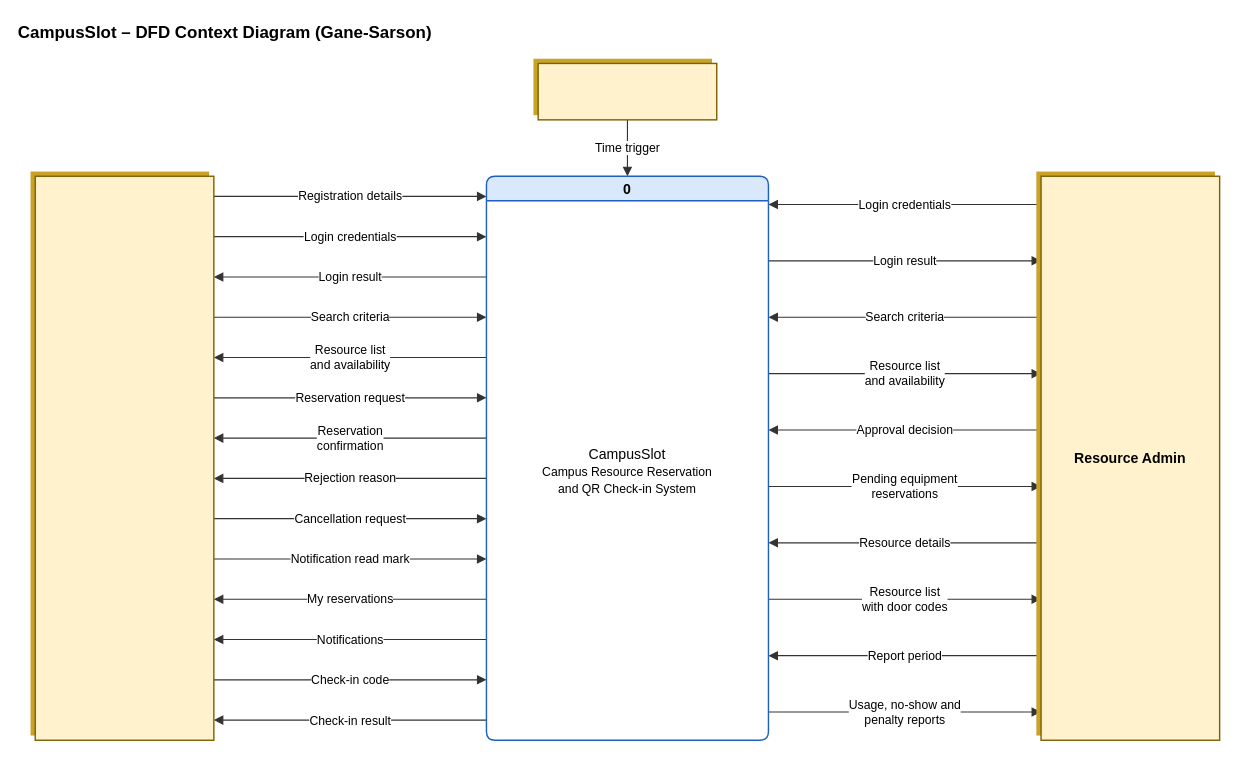
The diagram is 1236 pixels wide and 757 high, and some of its shapes have lost their labels. The box of each missing label's shape, as (x1, y1, x2, y2) in pixels:
Campus User (Student / Academic Staff): (34, 175, 214, 741)
System Scheduler: (537, 62, 717, 120)
